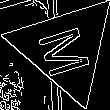M_E: (34, 18, 97, 78)
